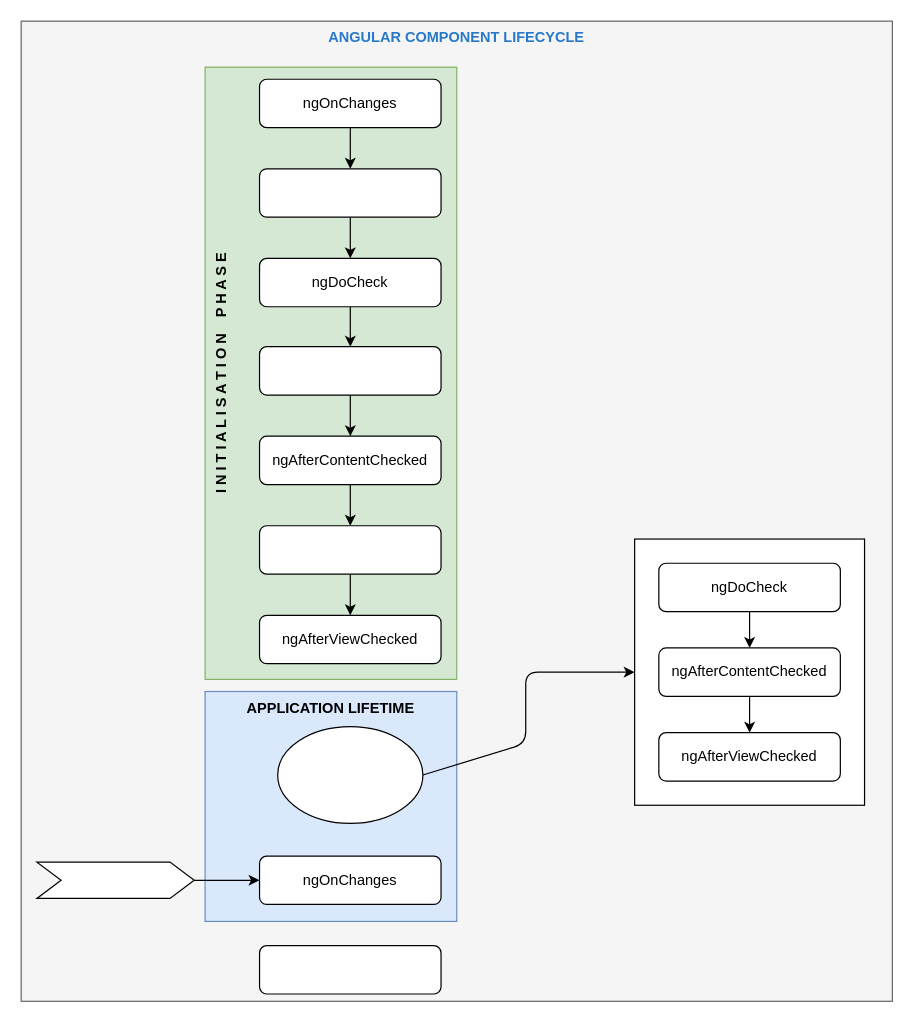
The diagram is 914 pixels wide and 1022 high, and some of its shapes have lost their labels. Here are the shapes that lost their labels. From the top down, the centre of each, then its label:
point (349, 192): ngOnInit
point (349, 370): ngAfterContentInit
point (349, 549): ngAfterViewInit
point (349, 774): Change Detection Loop
point (115, 879): @Input changes
point (349, 969): ngOnDestroy
